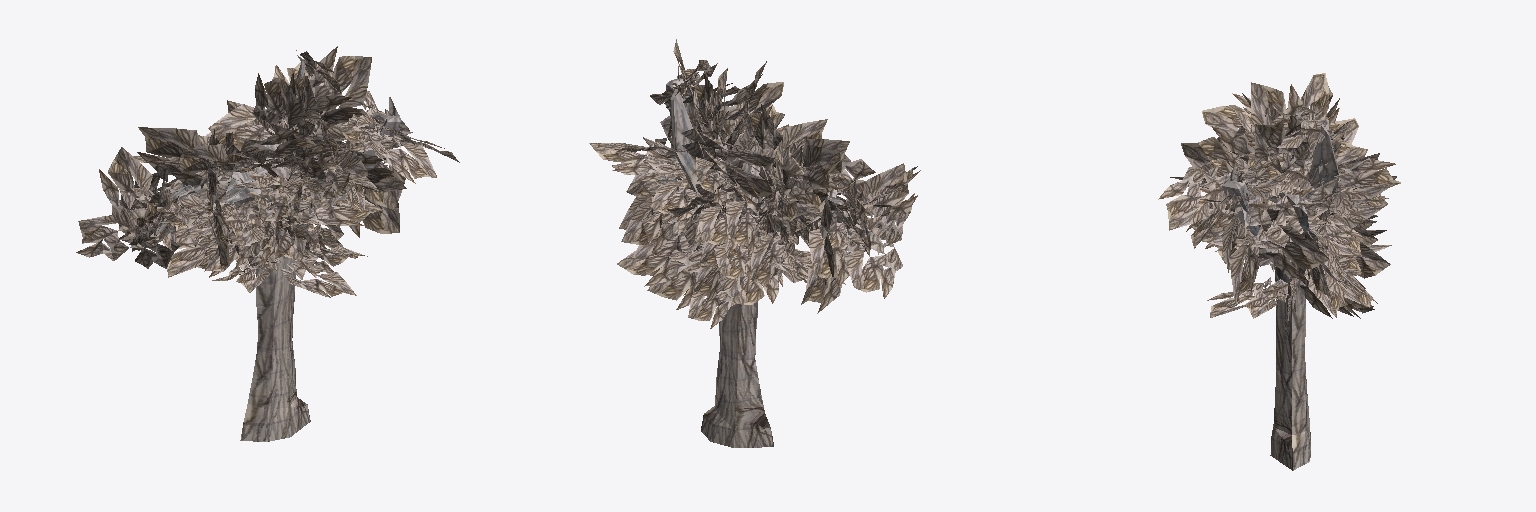
The picture shows the model from 3 angles: view 1: azimuth 30°, elevation 25°; view 2: azimuth 150°, elevation 25°; view 3: azimuth 270°, elevation 25°; orthographic projection.
Parts seen in each view (by area): view 1: tree; view 2: tree; view 3: tree.
Part boxes in pixels (left/top/right/bottom): tree: left=76, top=46, right=459, bottom=441; tree: left=589, top=39, right=920, bottom=447; tree: left=1158, top=73, right=1400, bottom=470.
Bounding box in the file's own units: 1.44 × 1.72 × 1.03.
Materials: 1 (1 with a texture image).